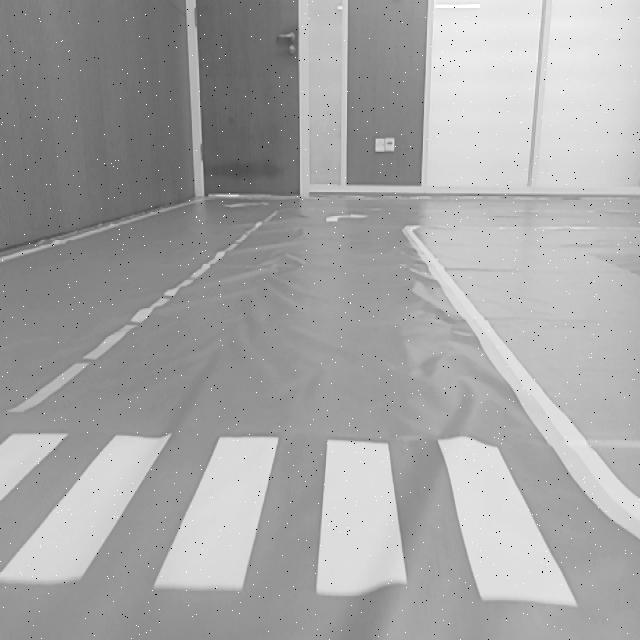left_lane: (0, 211, 278, 428)
right_lane: (402, 229, 608, 507)
